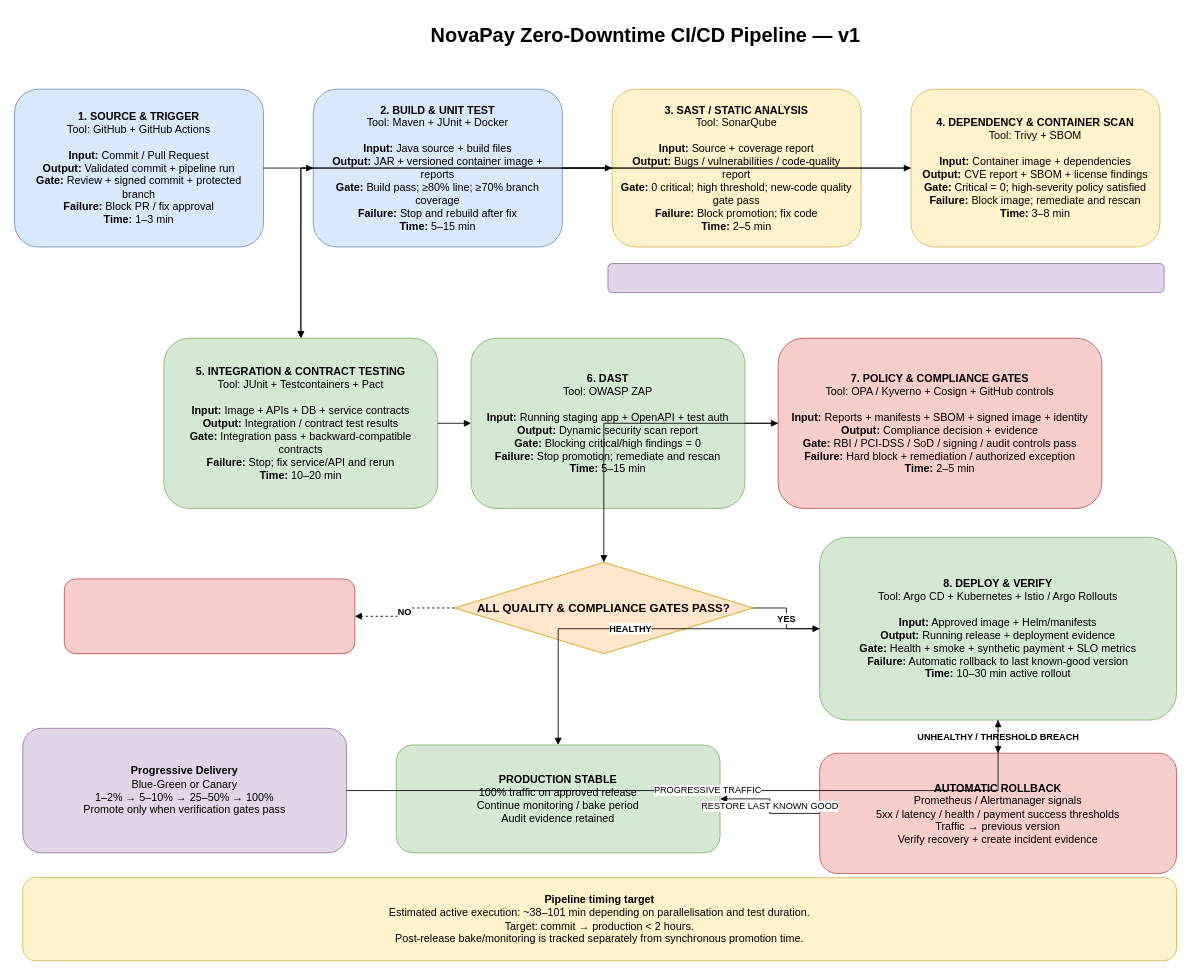
Image size: 1191x975. Some labels were removed from this diagram. The centre of each missing label's shape, as x and y in pixels:
"BLOCK / REMEDIATE Create evidence → Fix → New commit → Re-run affected stages" belongs at point (209, 616).
"PARALLEL SECURITY / QUALITY CHECKS" belongs at point (885, 278).
